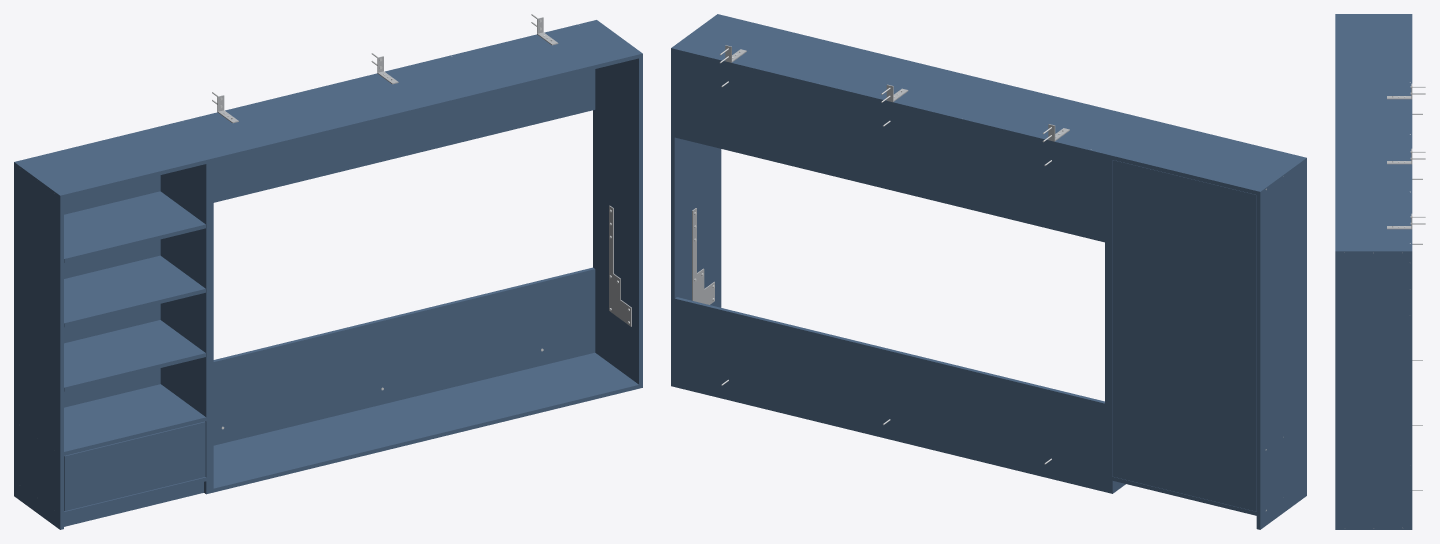
File: assembly.glb
3 renders of one model, left to right at view 1: azimuth 30°, elevation 25°; view 2: azimuth 150°, elevation 25°; view 3: azimuth 270°, elevation 25°, orthographic. The views are drawn at different scales.
Visible parts, largest first — view 1: M06, M03, M04, L02, M05, M01, L01, L16, L03, L06, L07, L09 (+6 smaller); view 2: L06, M06, M05, M03, L02, M01, L03, M04, L01, M02, I-R; view 3: M01, M03, L03, L01, L02, M02.
Boxes of the visible parts, x1,y1,x2,y2 form: M06: (213,267,595,445); M03: (168,21,638,161); M04: (213,352,638,492); L02: (14,161,63,529); M05: (213,69,595,202); M01: (593,20,642,388); L01: (160,125,209,494); L16: (64,421,205,511); L03: (18,126,206,198); L06: (64,175,160,407); L07: (64,384,206,455); L09: (64,255,205,327); L06: (1113,160,1256,511); M06: (674,297,1104,487); M05: (674,53,1104,242); M03: (674,15,1150,157); L02: (1256,157,1306,529); M01: (671,14,721,386); L03: (1112,122,1302,194); M04: (674,383,1104,491); L01: (1109,121,1158,493); M02: (1105,120,1155,492); I-R: (692,208,714,304); M01: (1335,249,1412,529); M03: (1335,76,1412,249); L03: (1335,15,1412,73); L01: (1335,73,1412,74); L02: (1335,14,1412,15); M02: (1335,75,1412,76).
Bounding box in the file's own units: 2.97 × 1.7 × 0.4778.
